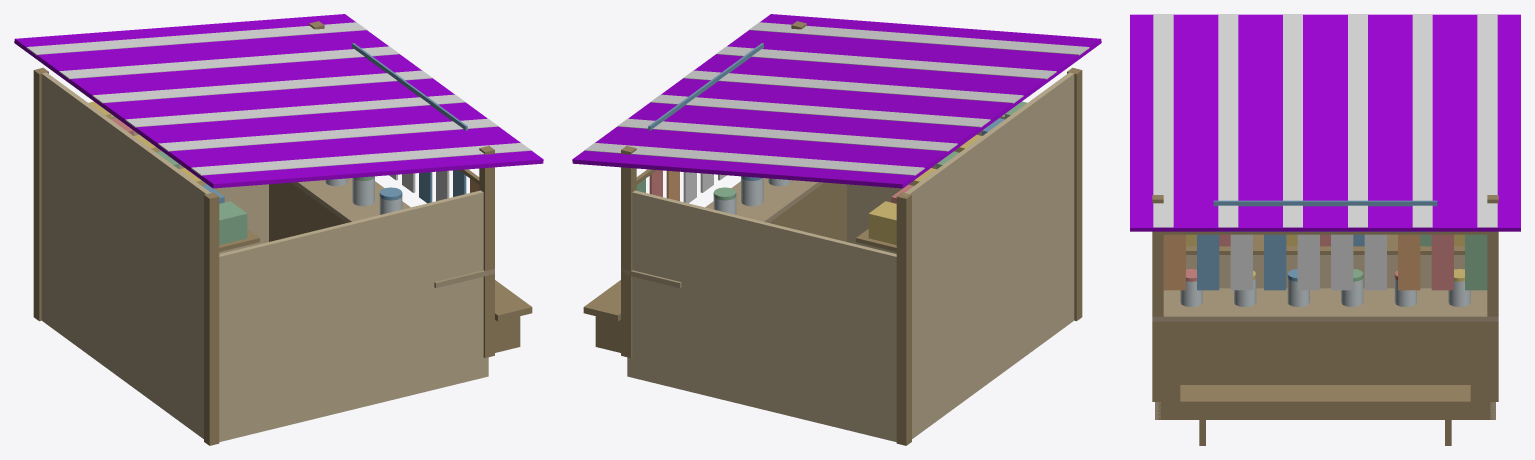
File: warung.glb
The picture shows the model from 3 angles, left to right: view 1: azimuth 30°, elevation 25°; view 2: azimuth 150°, elevation 25°; view 3: azimuth 270°, elevation 25°; orthographic projection.
Parts seen in each view (by area): view 1: main; view 2: main; view 3: main.
Boxes of the visible parts, <box> form: main: <box>14,14,543,445</box>; main: <box>572,14,1101,445</box>; main: <box>1130,14,1520,445</box>.
Size of the model in its own units: 3.51 by 2.65 by 3.5.
